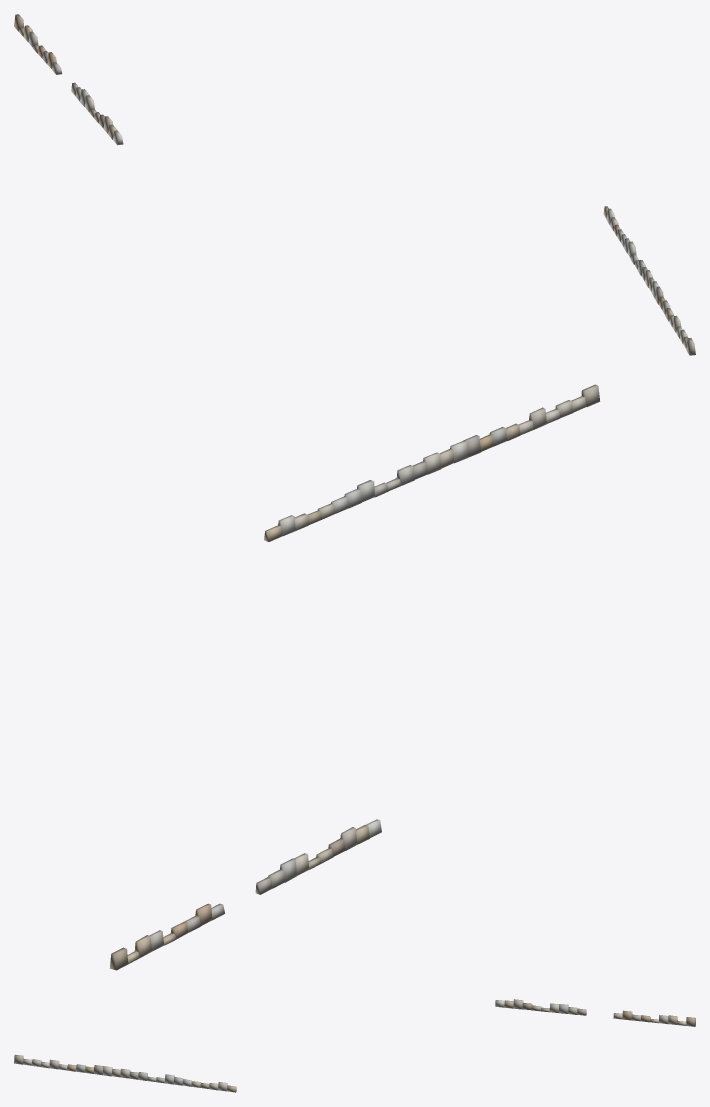
The model's file is farm_13_16_far.glb.
3 views of the same model, one above another, from view 1: azimuth 30°, elevation 25°; view 2: azimuth 150°, elevation 25°; view 3: azimuth 270°, elevation 25° (orthographic). The views are drawn at different scales.
Parts seen in each view (by area): view 1: geometry_0; view 2: geometry_0; view 3: geometry_0.
Boxes of the visible parts, x1,y1,x2,y2 form: geometry_0: (14, 14, 695, 355); geometry_0: (109, 384, 600, 970); geometry_0: (14, 999, 695, 1092).
Bounding box in the file's own units: 37.26 × 3.58 × 116.
